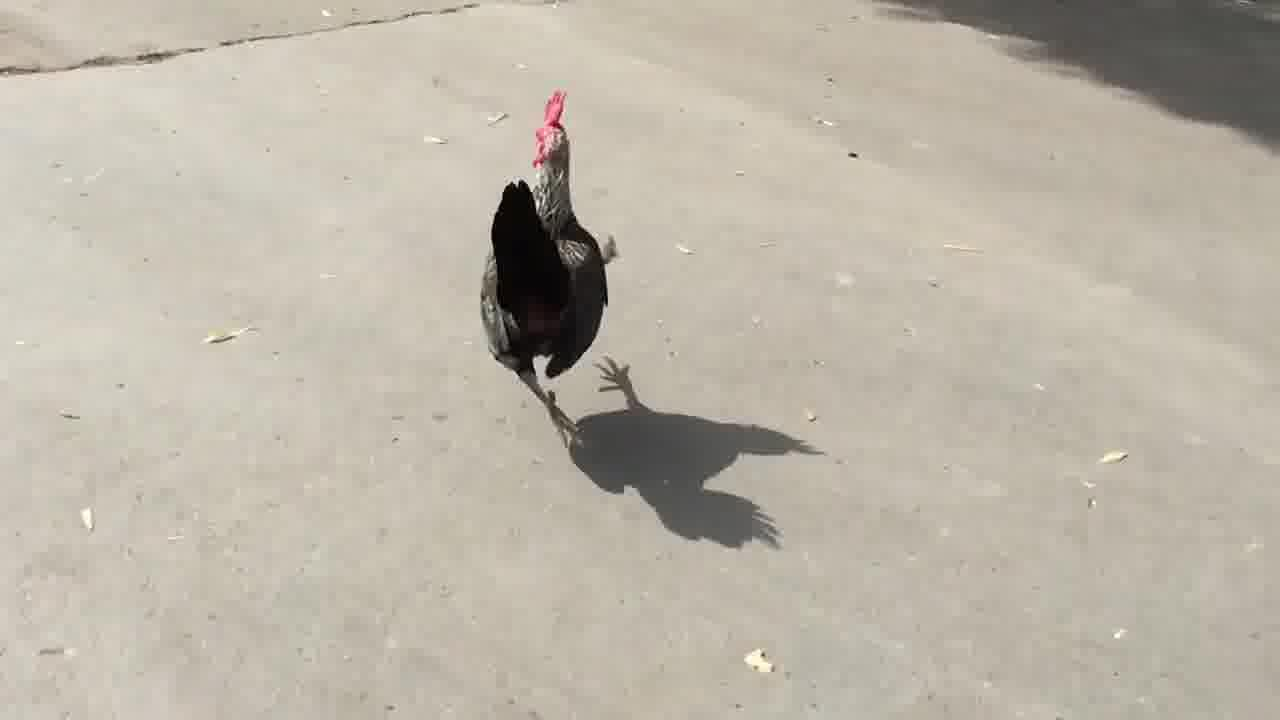Normal: (478, 64, 668, 434)
